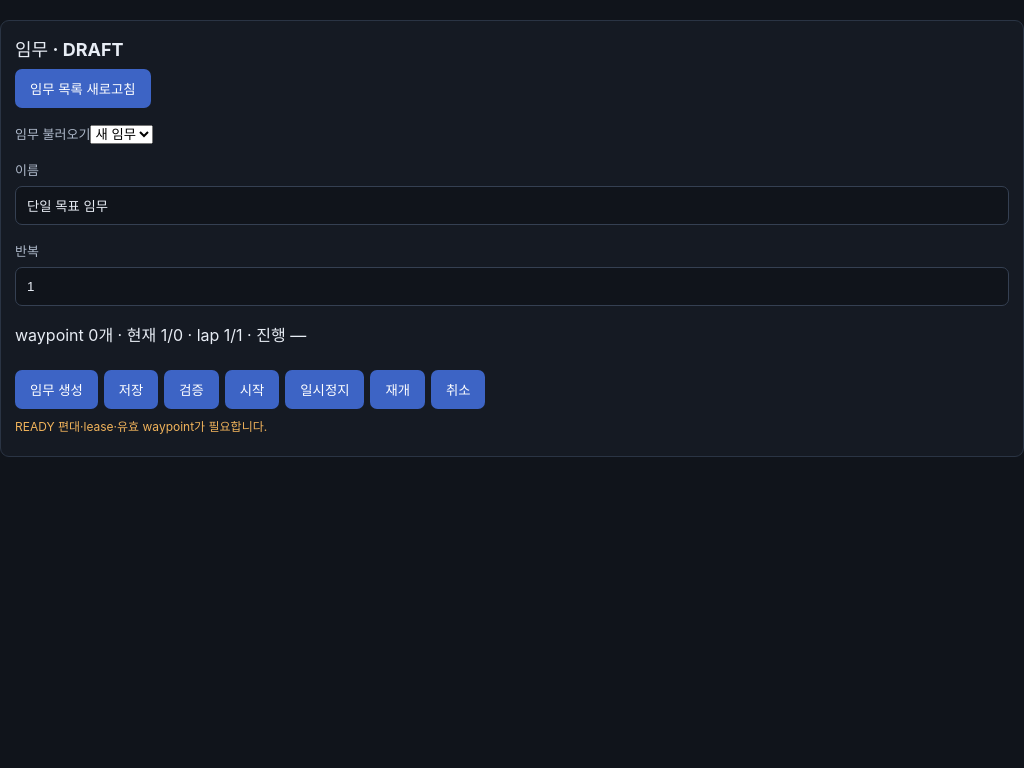
loads a paused mission from the list while paused formation stays resumable without auto action
Click the button "임무 목록 새로고침".
click(83, 88)  # box [15,69,150,108]
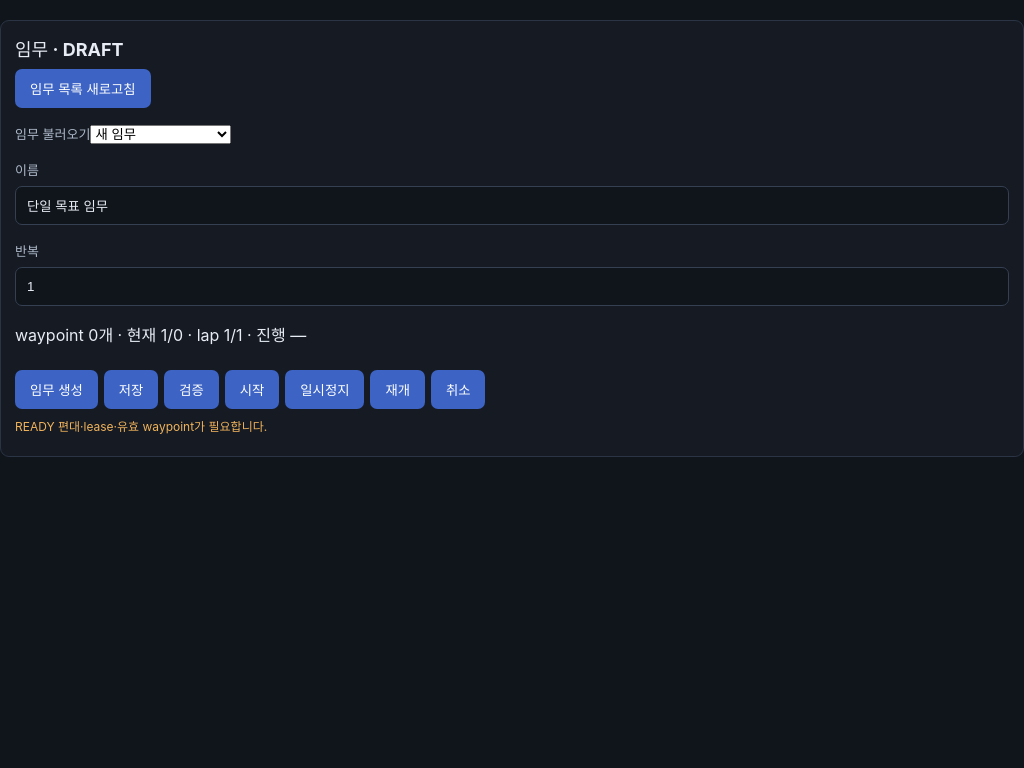
Select "복구 임무 · PAUSED" in the dropdown named "저장된 임무" at [161, 134], box [90,125,231,144]
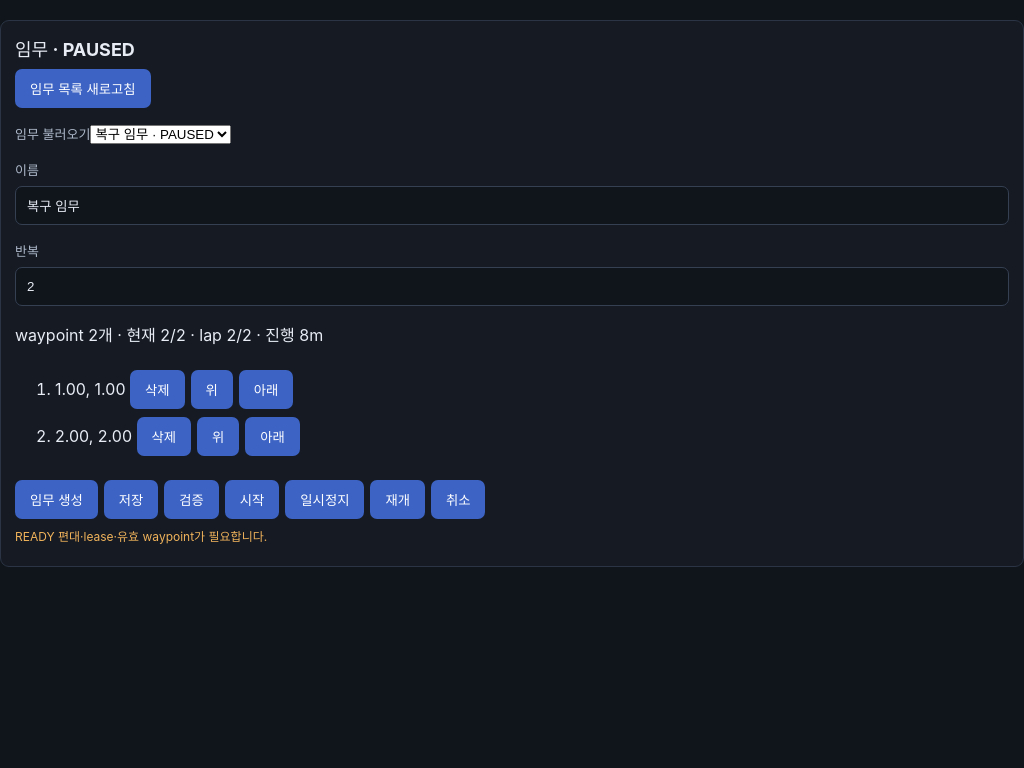
Expected: the button "재개" is enabled, [370,480,425,519]
Expected: the text with test id "mission-progress" shows "waypoint 2개", [15,325,323,345]
Expected: the text with test id "mission-progress" shows "현재 2/2 · lap 2/2 · 진행 8m", [15,325,323,345]
